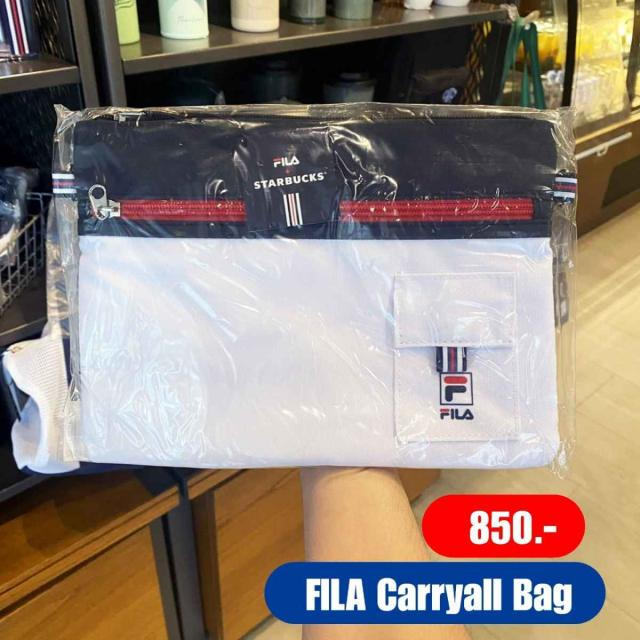Handbag: (41, 80, 598, 477)
